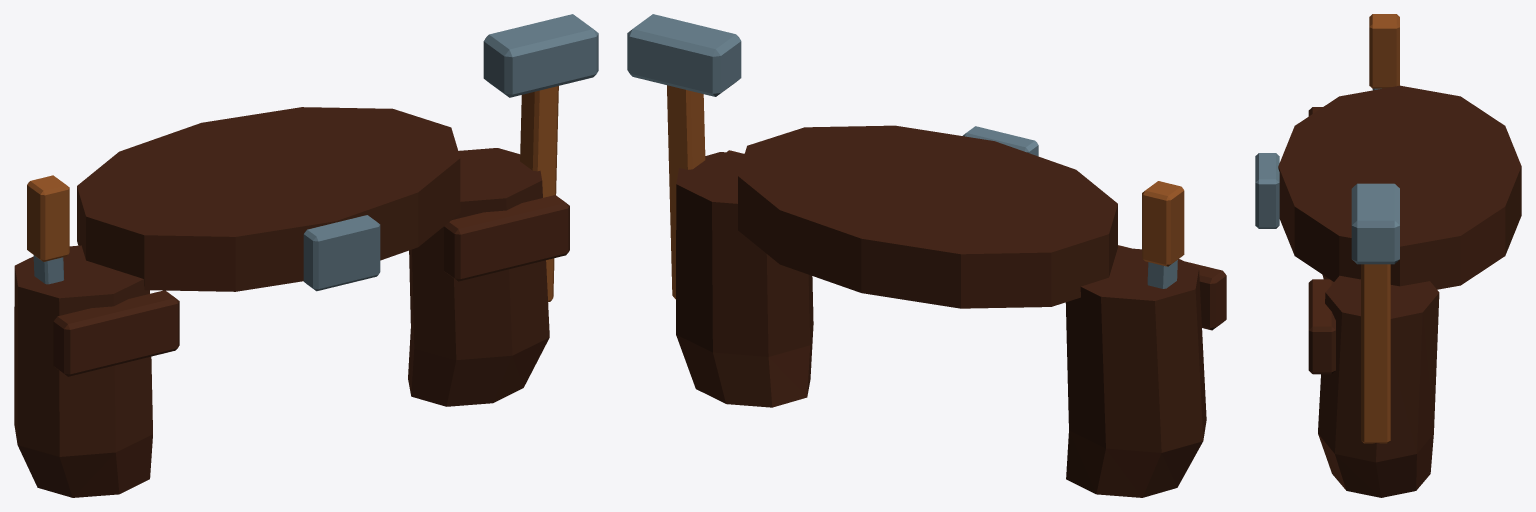
File: EP_Accessory_ToolBelt.fbx
3 renders of one model, left to right at view 1: azimuth 30°, elevation 25°; view 2: azimuth 150°, elevation 25°; view 3: azimuth 270°, elevation 25°, orthographic. The views are drawn at different scales.
Visible parts, largest first — view 1: EP_Accessory_ToolBelt; view 2: EP_Accessory_ToolBelt; view 3: EP_Accessory_ToolBelt.
Part boxes in pixels (<box>): EP_Accessory_ToolBelt: <box>14,14,598,497</box>; EP_Accessory_ToolBelt: <box>627,14,1226,497</box>; EP_Accessory_ToolBelt: <box>1255,14,1521,497</box>.
Size of the model in its own units: 0.544 by 0.306 by 0.243.
